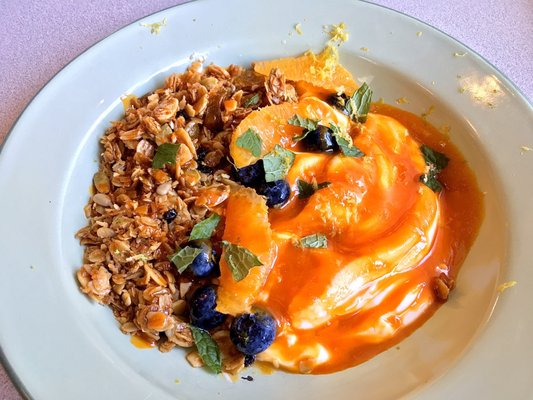curry: (9, 1, 530, 397)
sandwich: (55, 29, 464, 383)
